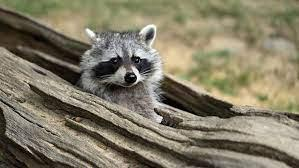raccoon: (67, 17, 171, 160)
